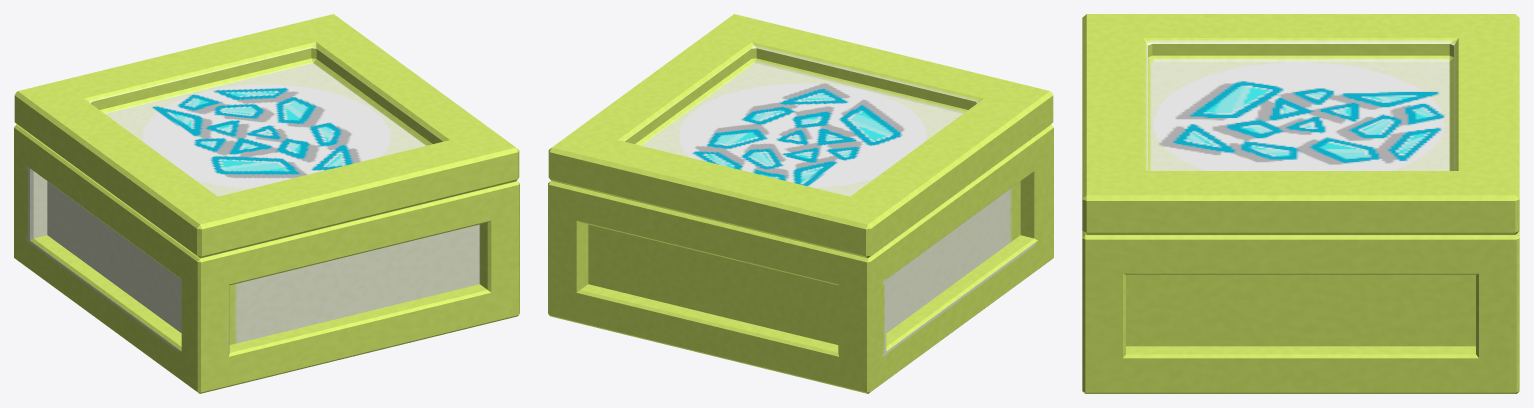
Rendered from screen_broken_crate.glb.
3 renders of one model, left to right at view 1: azimuth 30°, elevation 25°; view 2: azimuth 150°, elevation 25°; view 3: azimuth 270°, elevation 25°, orthographic. The views are drawn at different scales.
Visible parts, largest first — view 1: Cube.001, Cube.003; view 2: Cube.001, Cube.003; view 3: Cube.001, Cube.003.
Part boxes in pixels (x1=…): Cube.001: x1=14, y1=14, x2=519, y2=258; Cube.003: x1=14, y1=124, x2=519, y2=393; Cube.001: x1=548, y1=14, x2=1053, y2=258; Cube.003: x1=548, y1=124, x2=1053, y2=393; Cube.001: x1=1082, y1=14, x2=1519, y2=234; Cube.003: x1=1082, y1=231, x2=1519, y2=393.
Bounding box in the file's own units: 2 × 1 × 2.
2 materials, 2 textured.
